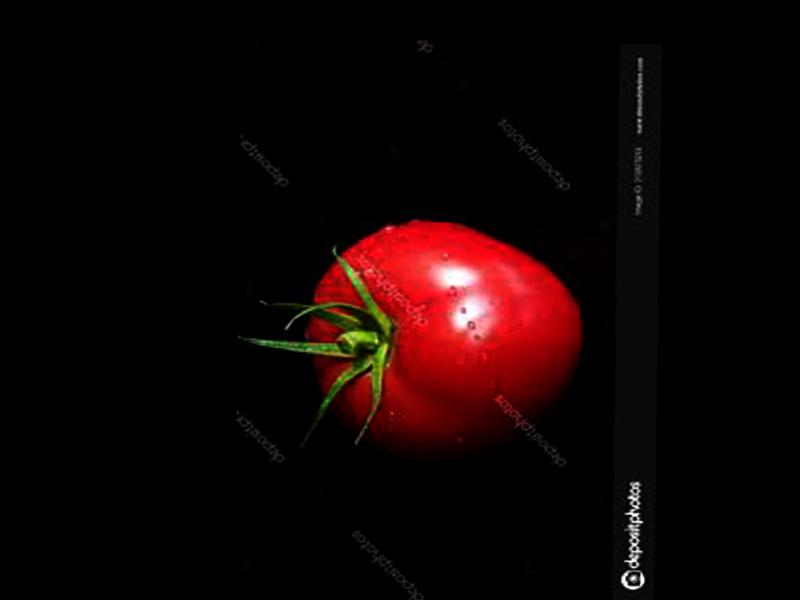Tomato: (305, 218, 583, 462)
